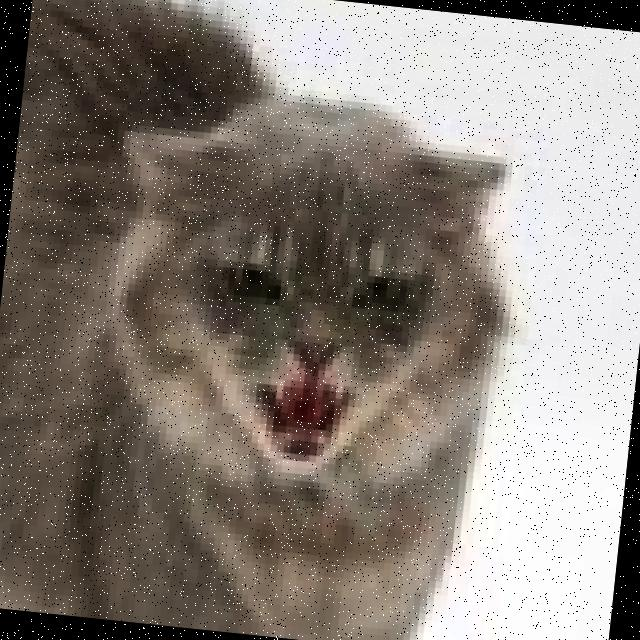Angry: (138, 200, 468, 510)
